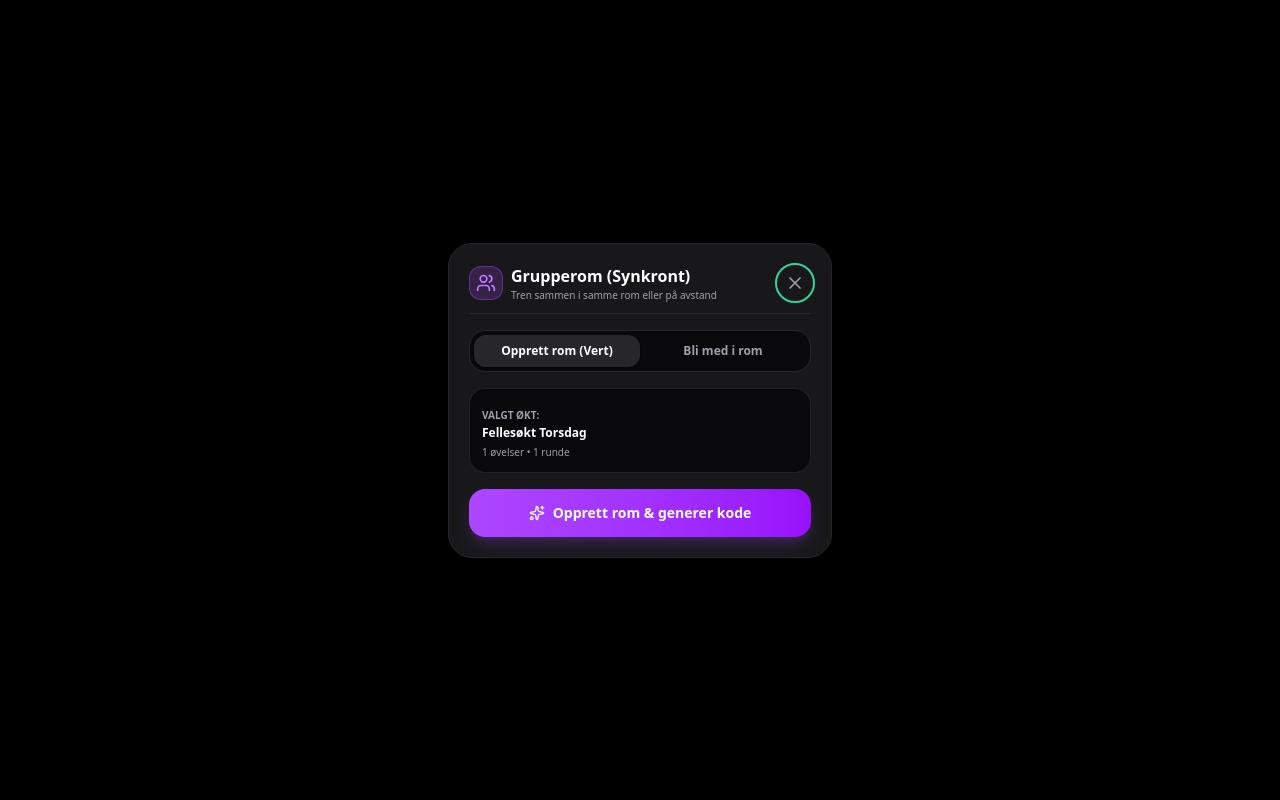
it: GroupRoomModal – opprett-flyt (vert) › viser feilmelding når romopprettelsen feiler
Step 1. Click the button "Opprett rom & generer kode" → (640, 512), box x1=469 y1=488 x2=811 y2=536
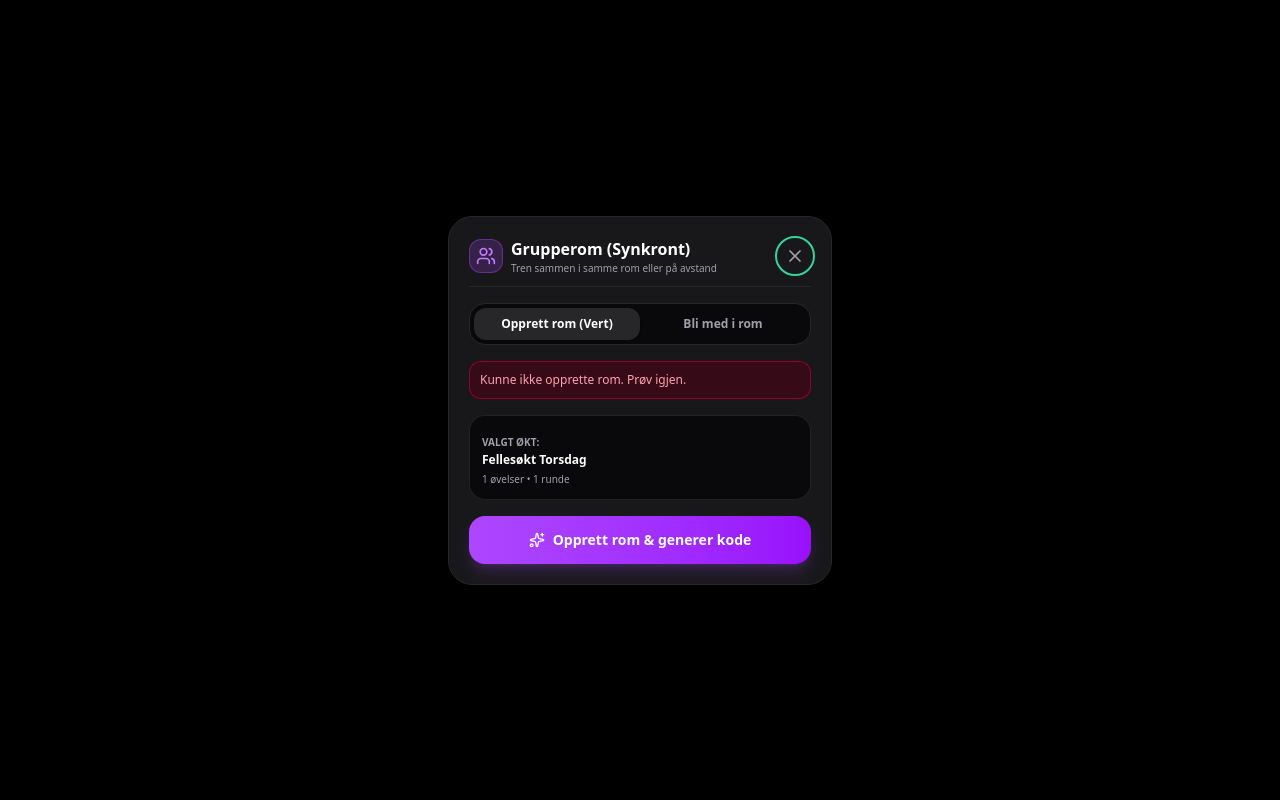
Check: the text "Kunne ikke opprette rom. Prøv igjen." is shown, box x1=469 y1=360 x2=811 y2=398
